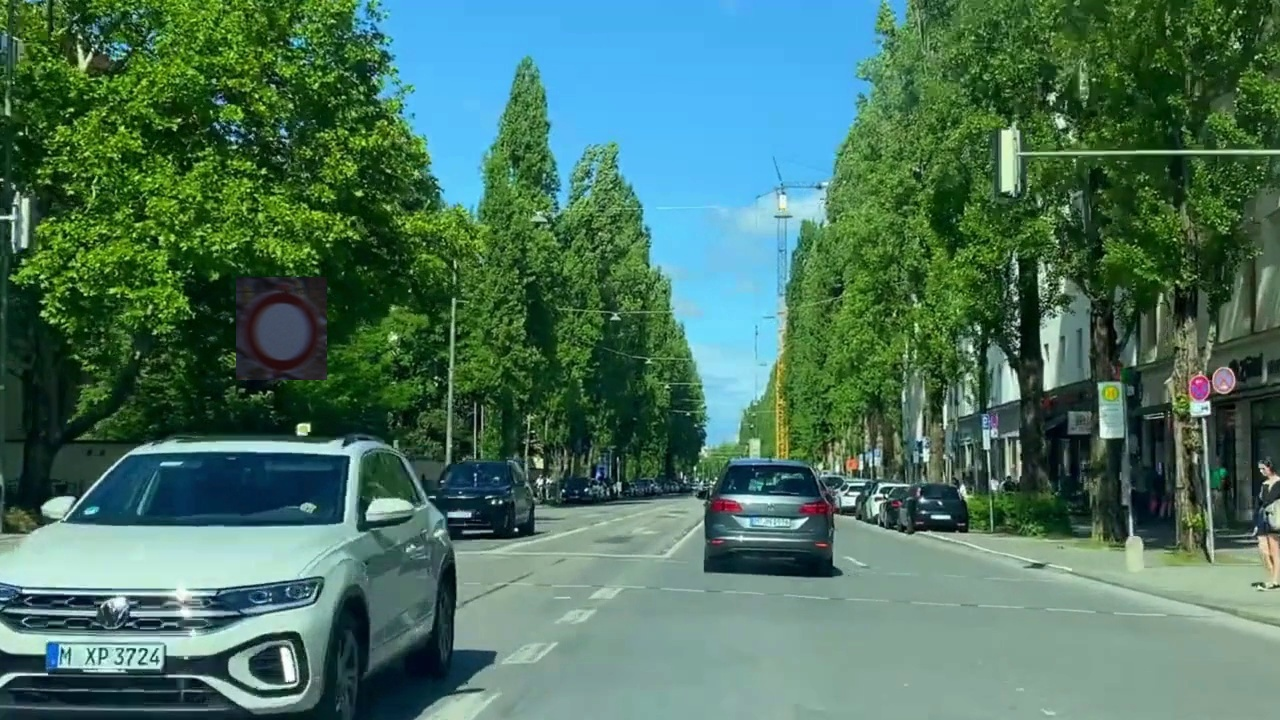No vehicles: (236, 277, 327, 380)
